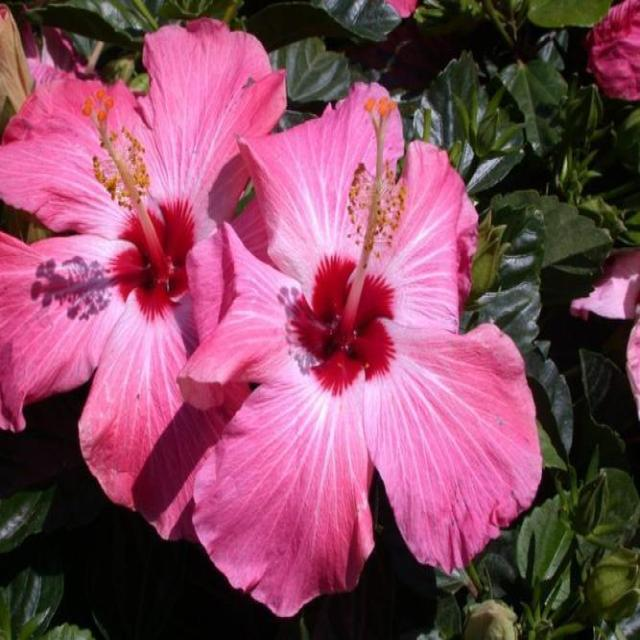hibiscus: (13, 39, 603, 640)
